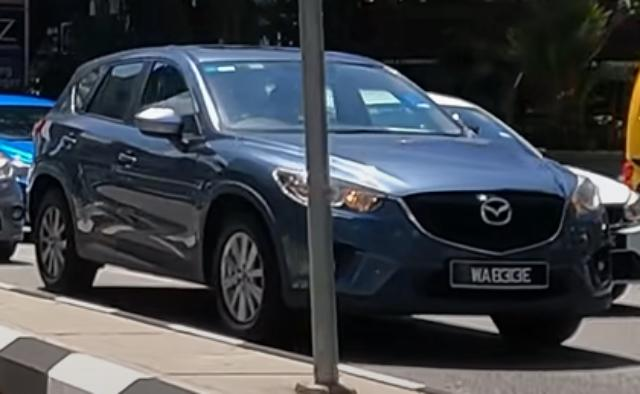License_Plate: (449, 259, 551, 292)
car: (25, 43, 640, 347)
